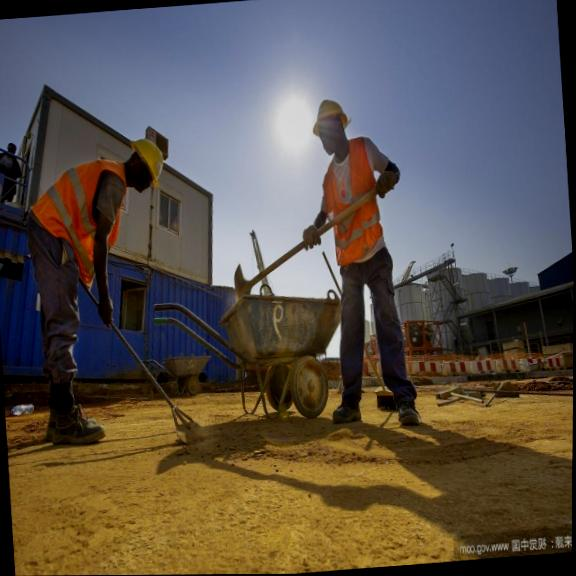safety_vest: (332, 154, 392, 267), (37, 163, 108, 243)
